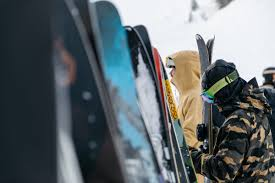skis: (56, 2, 123, 183), (151, 44, 198, 183), (122, 25, 157, 183), (196, 30, 222, 183)
